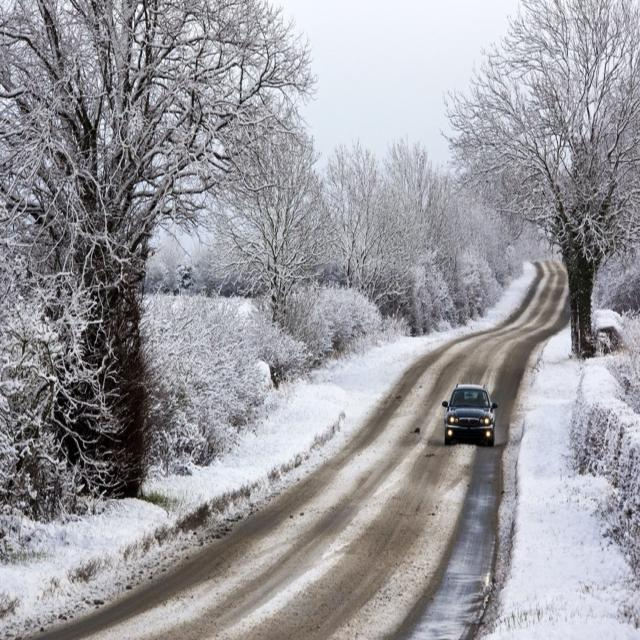car: (444, 383, 498, 446)
